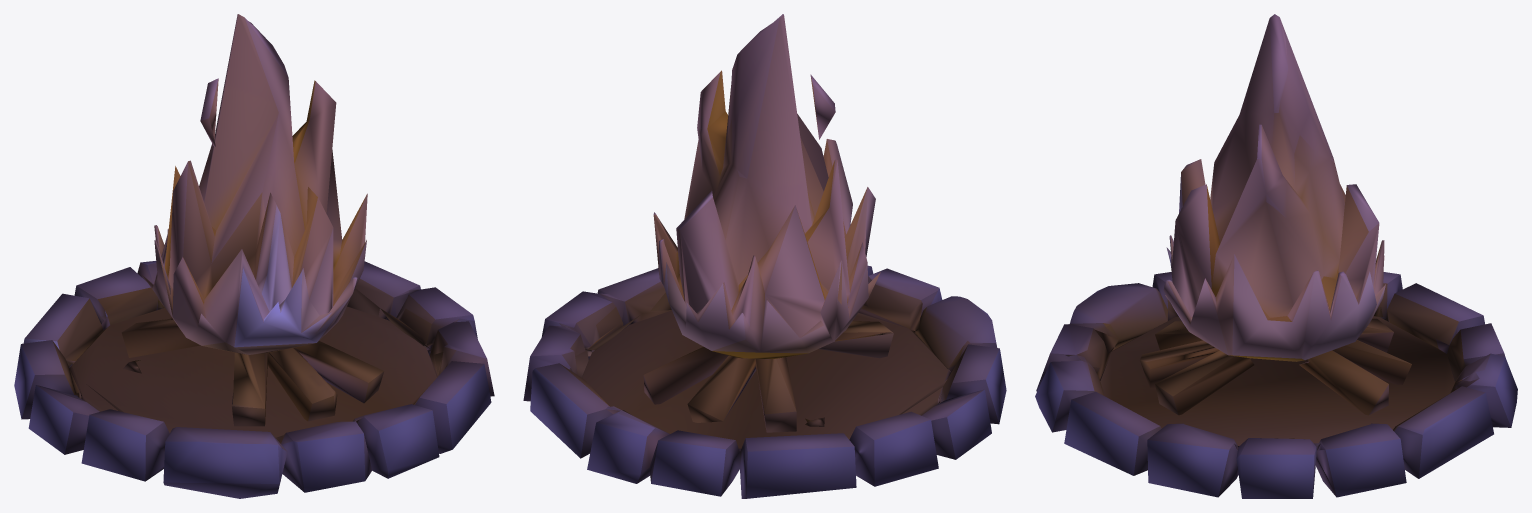
Rendered from model.progressive.glb.
3 renders of one model, left to right at view 1: azimuth 30°, elevation 25°; view 2: azimuth 150°, elevation 25°; view 3: azimuth 270°, elevation 25°, orthographic. The views are drawn at different scales.
Parts seen in each view (by area): view 1: material; view 2: material; view 3: material.
Part boxes in pixels (x1=…): material: x1=14, y1=14, x2=494, y2=498; material: x1=523, y1=14, x2=1006, y2=498; material: x1=1035, y1=14, x2=1517, y2=498.
Bounding box in the file's own units: 1.83 × 1.64 × 1.87.
Materials: 1 (1 with a texture image).
